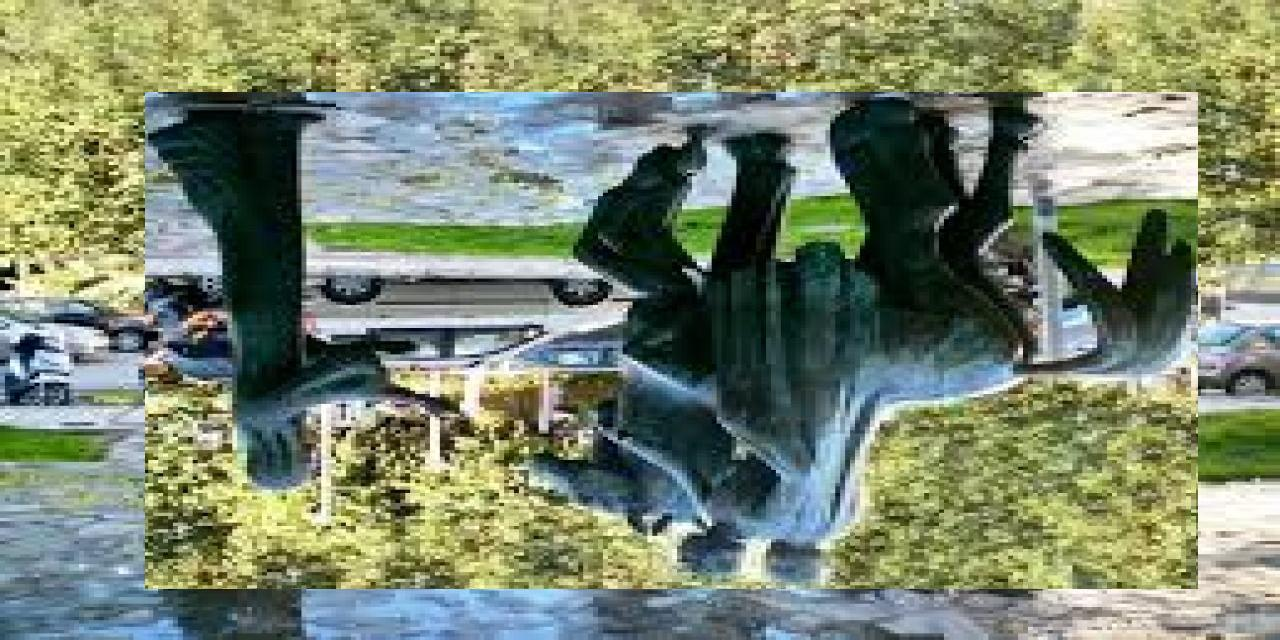Aretousa: (146, 93, 1199, 590)
